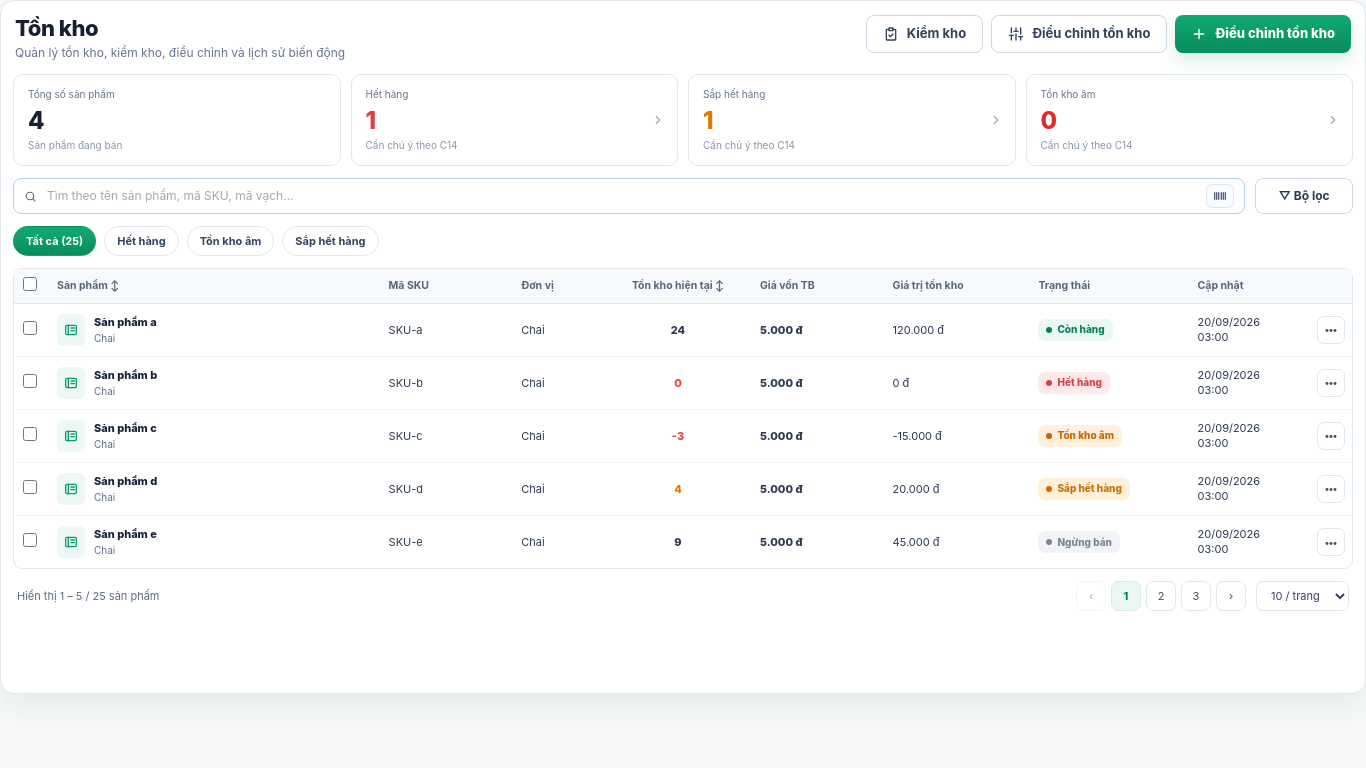
it: InventoryView with live data › searches on the server and filters stock state only within the loaded page
Type "coca" into the field with placeholder "Tìm theo tên sản phẩm, mã SKU, mã vạch..." at x=622, y=196, box top-left (47, 187), bottom-right (1196, 205)
Wait 300 ms
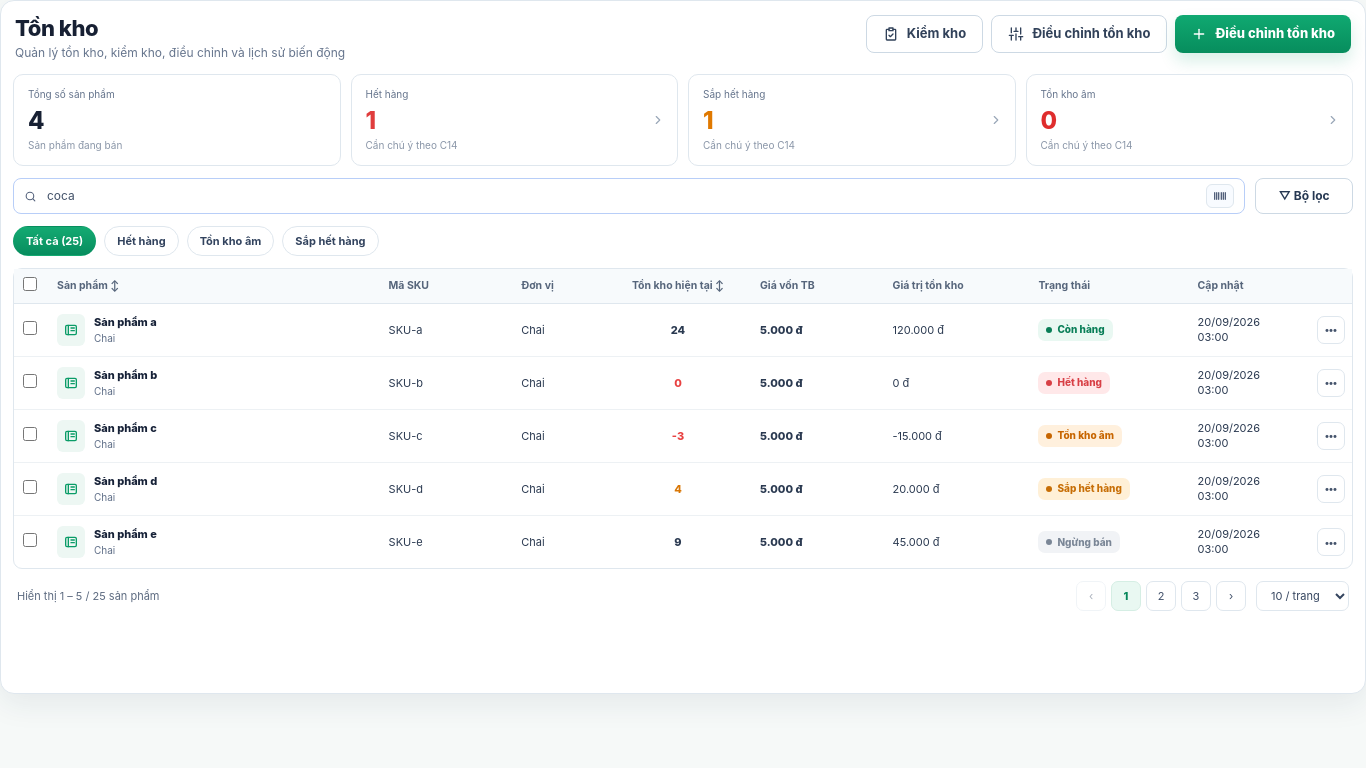
Click the button with class "inventory-chip" showing "Tồn kho âm" at x=230, y=241, box top-left (187, 226), bottom-right (274, 256)
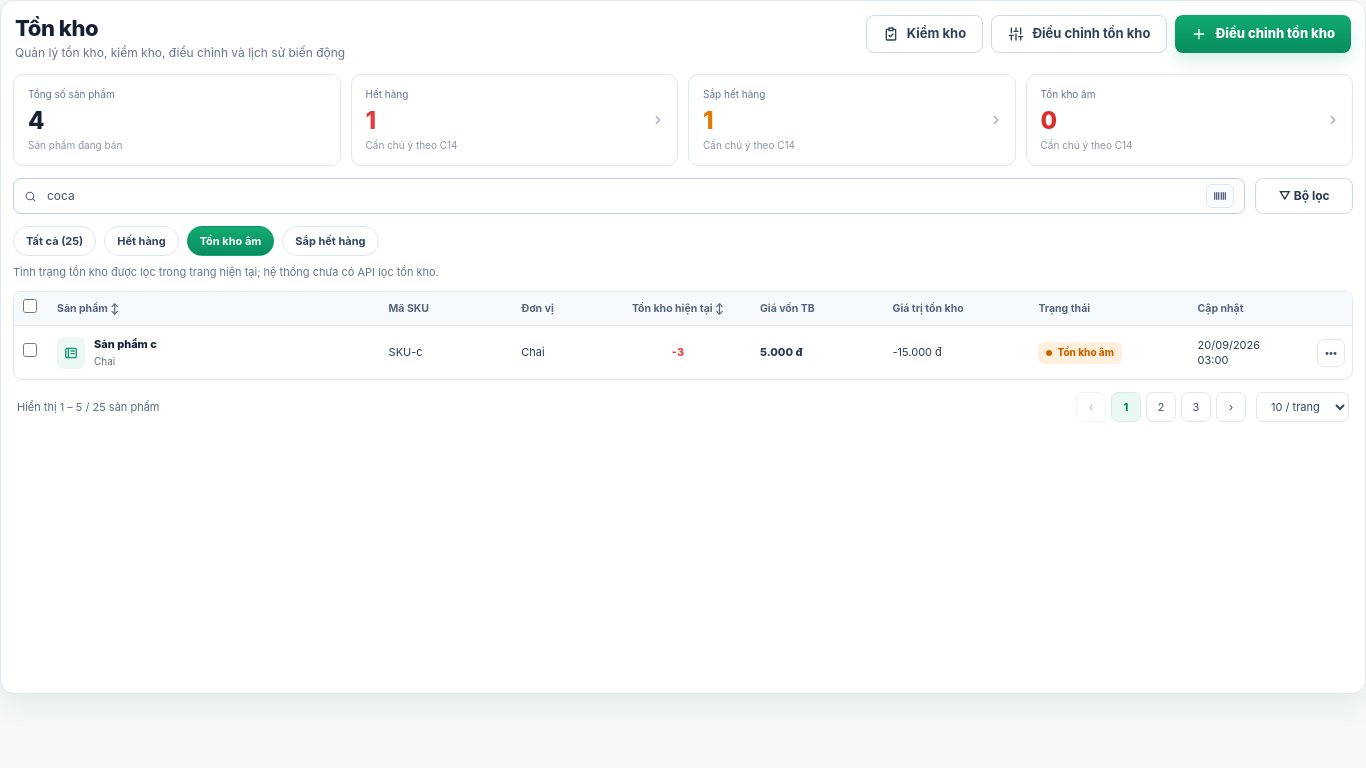
Expected: the text with class "inventory-scope-note" shows "trang hiện tại", top-left (13, 265), bottom-right (439, 279)
